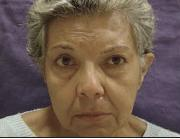normalMouth: (72, 109, 117, 124)
strokeEyeWeak: (50, 42, 133, 73)
